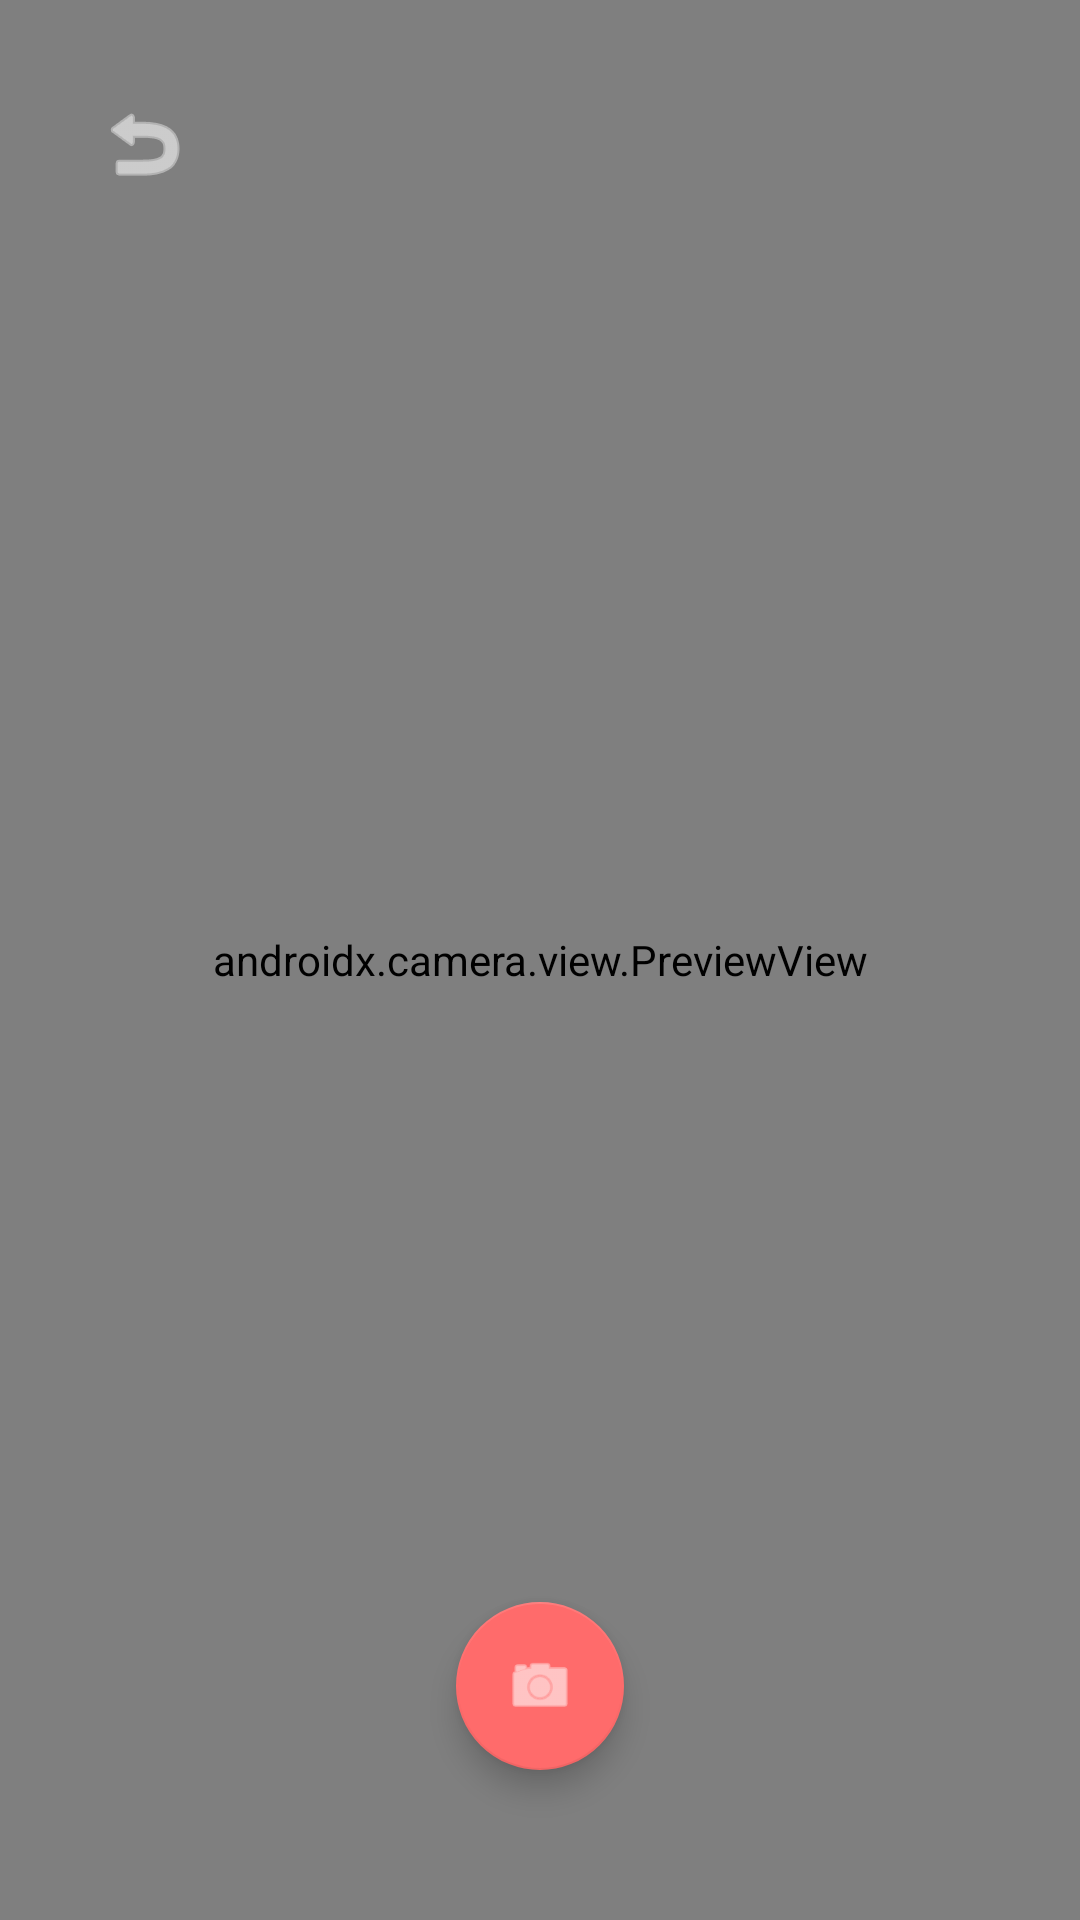

Named icons in this screenshot (1080 × 1920) and their bounding boxes, [x1=x1, y1=y1, x2=x2, y2=y2]:
Prendre une photo: [x1=456, y1=1602, x2=624, y2=1770]
revert: [x1=111, y1=114, x2=180, y2=176]
